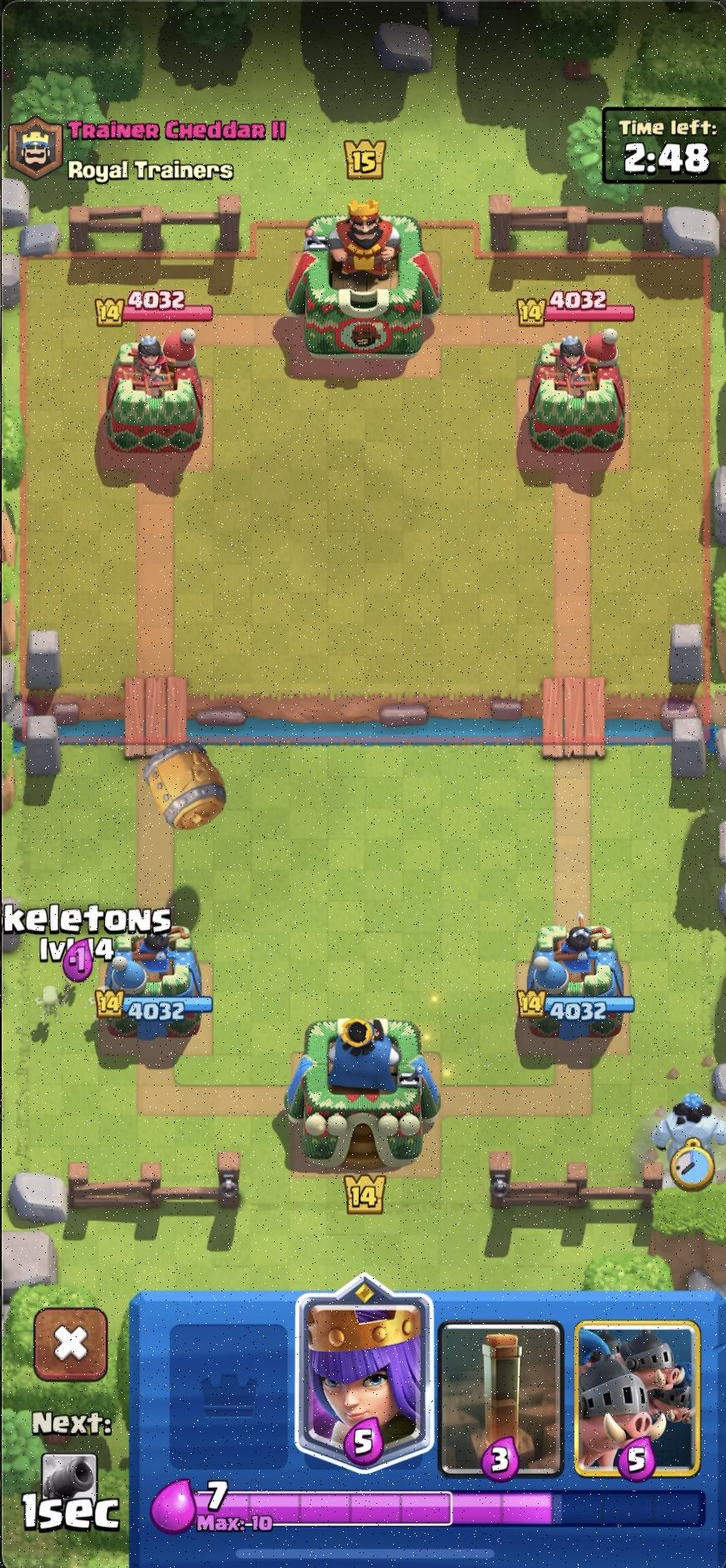card_archerqueen: (295, 1267, 436, 1480)
card_cannon: (30, 1445, 106, 1534)
card_earthquake: (438, 1317, 566, 1479)
card_royalhogs: (571, 1317, 705, 1486)
